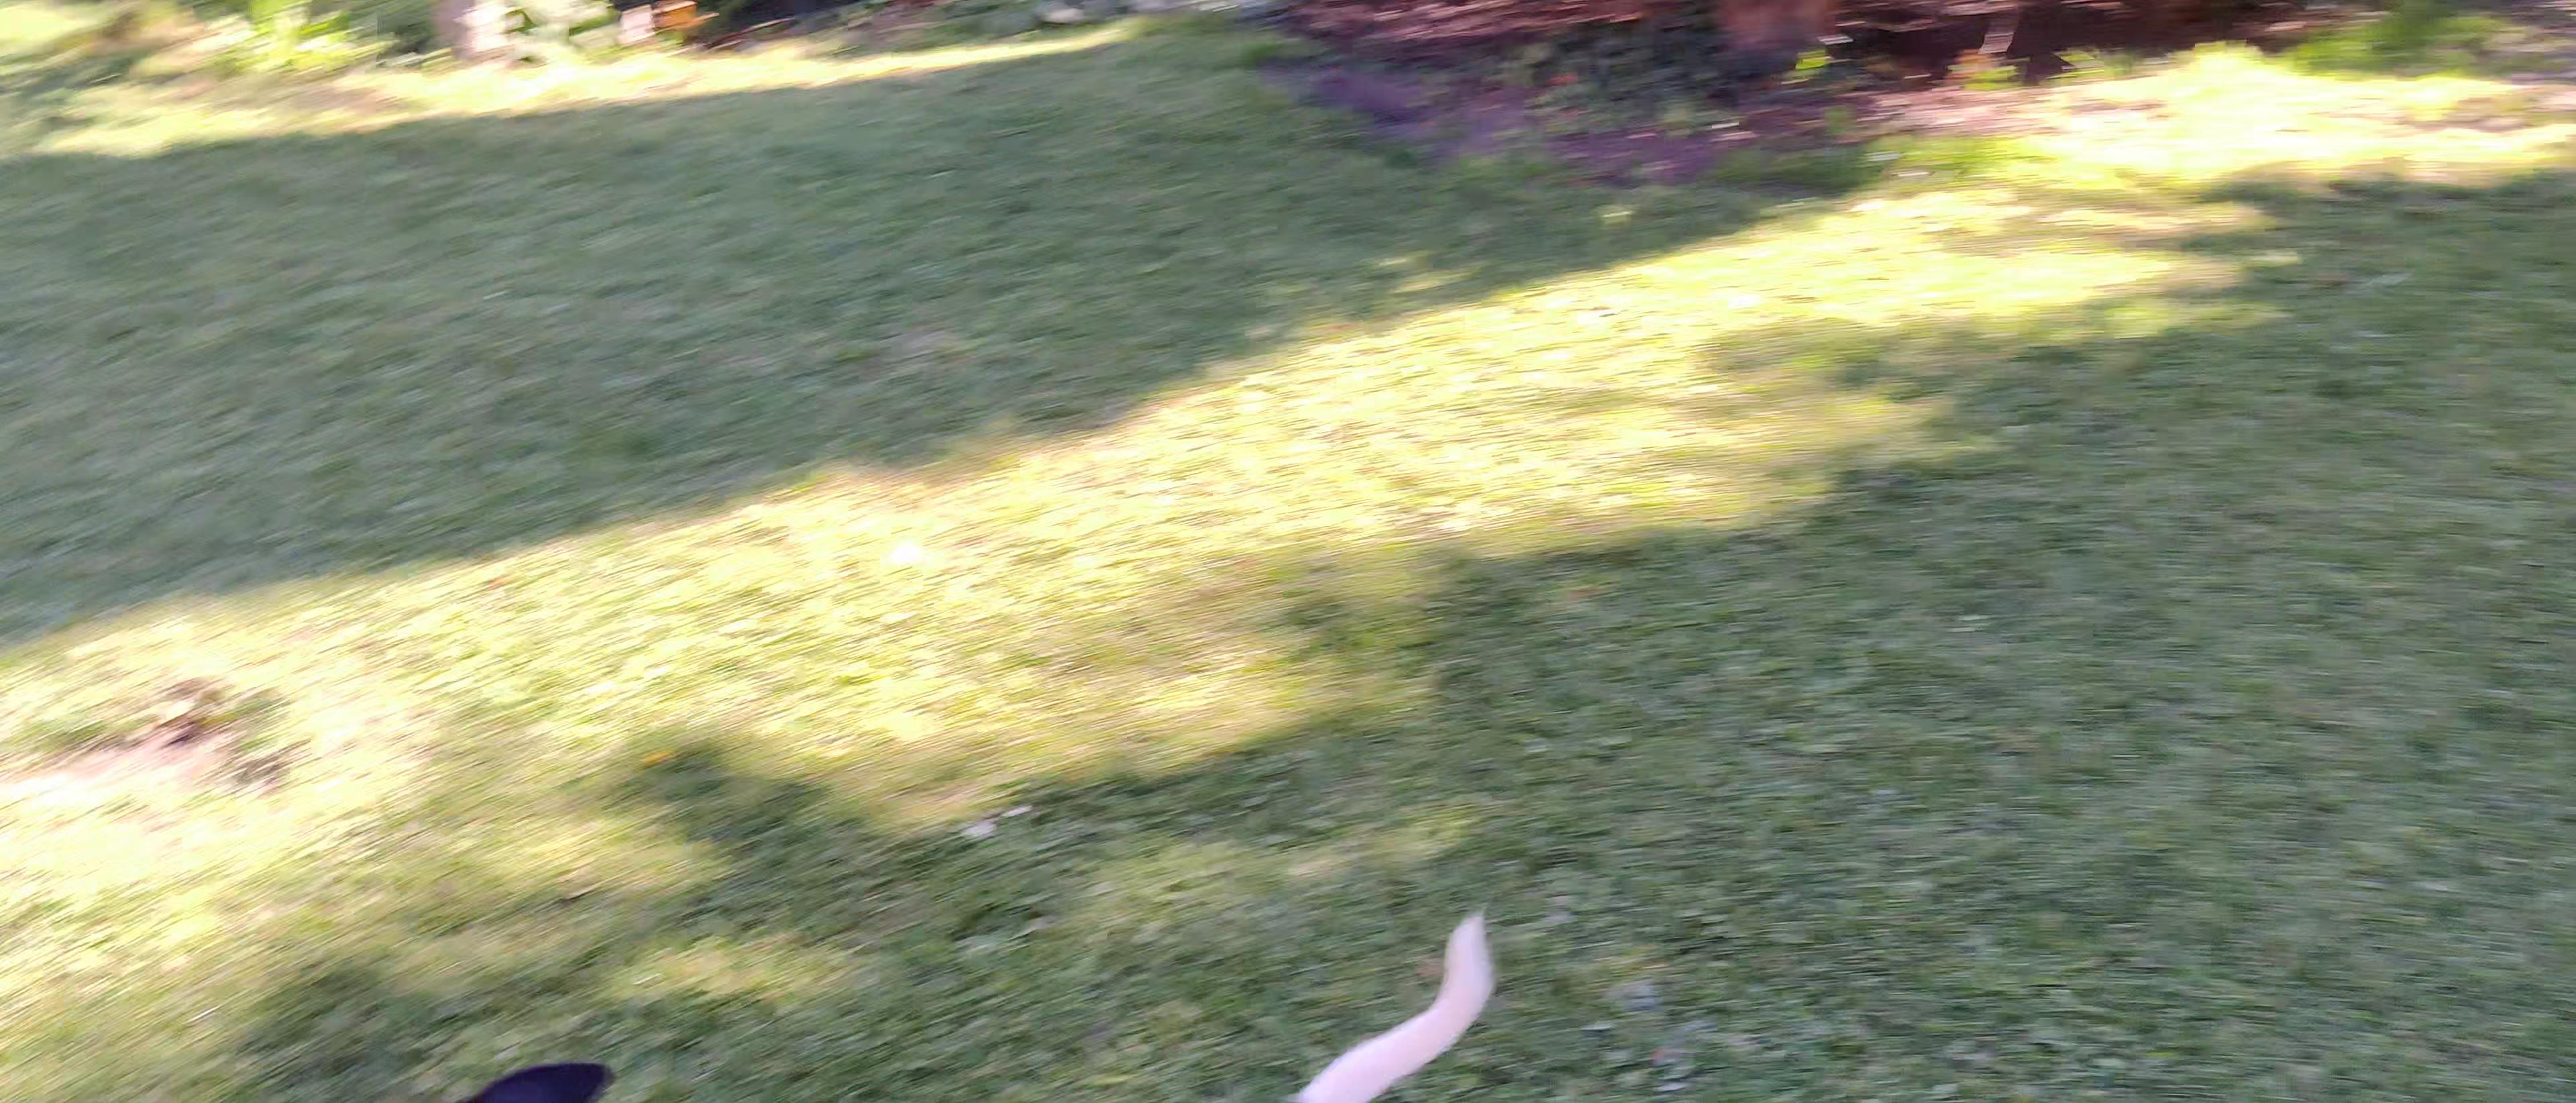Dog: (435, 894, 1510, 1103)
